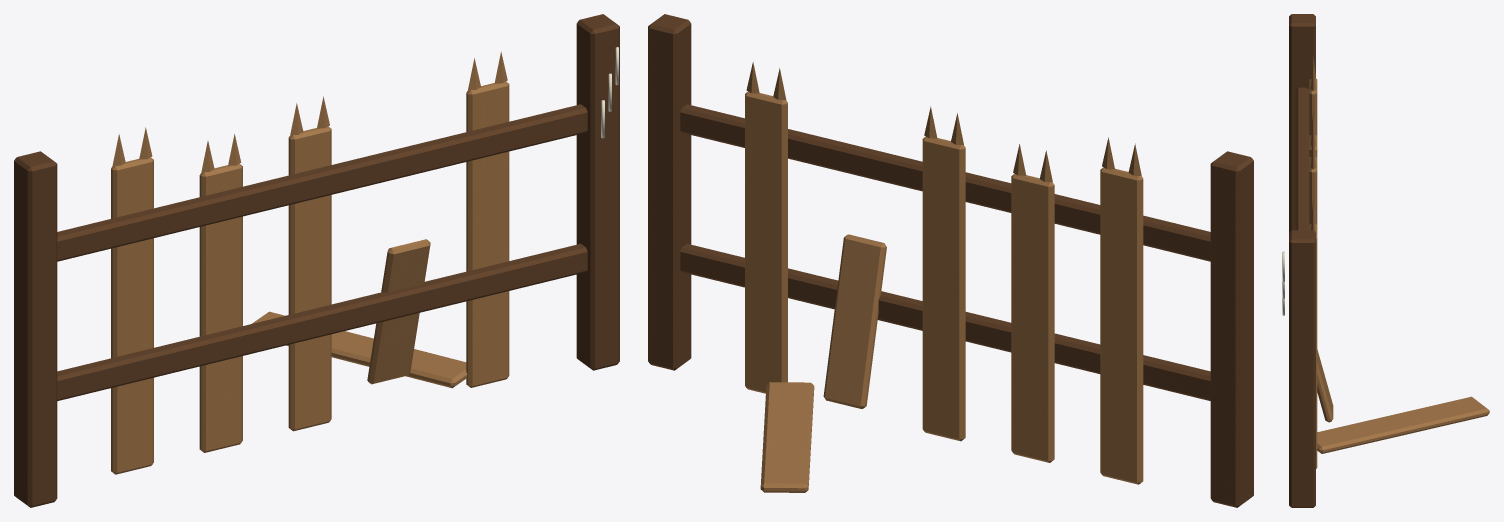
Rendered from zc_fence_broken.mobile-low.glb.
The picture shows the model from 3 angles, left to right: view 1: azimuth 30°, elevation 25°; view 2: azimuth 150°, elevation 25°; view 3: azimuth 270°, elevation 25°; orthographic projection. The views are drawn at different scales.
Parts seen in each view (by area): view 1: zc_fence_broken; view 2: zc_fence_broken; view 3: zc_fence_broken.
Boxes of the visible parts, x1,y1,x2,y2 form: zc_fence_broken: (14, 14, 619, 507); zc_fence_broken: (648, 14, 1253, 507); zc_fence_broken: (1282, 14, 1489, 507).
Size of the model in its own units: 2 by 1.1 by 0.7697.
Materials: 1 (1 with a texture image).
